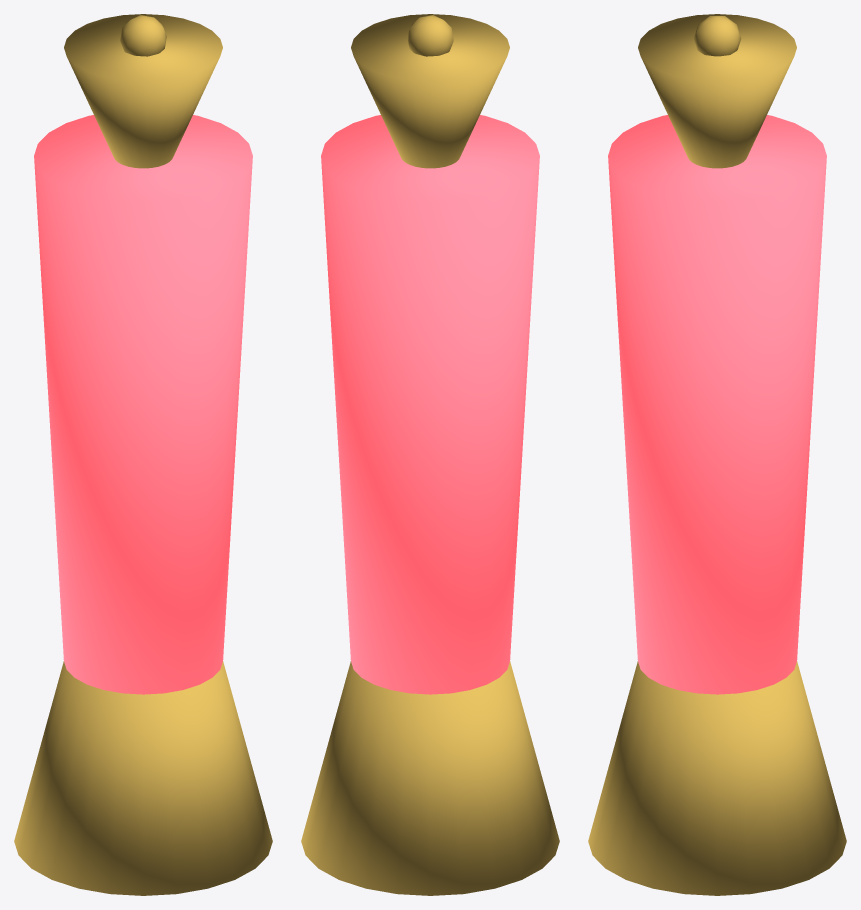
File: lava_lamp.glb
3 renders of one model, left to right at view 1: azimuth 30°, elevation 25°; view 2: azimuth 150°, elevation 25°; view 3: azimuth 270°, elevation 25°, orthographic.
Parts seen in each view (by area): view 1: glass, base, cap, tip; view 2: glass, base, cap, tip; view 3: glass, base, cap, tip.
Boxes of the visible parts, box(x1,y1,x2,y2) form: glass: box(34, 115, 252, 694); base: box(14, 661, 272, 895); cap: box(64, 14, 222, 168); tip: box(120, 15, 166, 56); glass: box(321, 115, 539, 694); base: box(301, 661, 559, 895); cap: box(351, 14, 509, 168); tip: box(407, 15, 453, 56); glass: box(608, 115, 826, 694); base: box(588, 661, 846, 895); cap: box(638, 14, 796, 168); tip: box(693, 16, 741, 56).
Size of the model in its own units: 0.13 by 0.457 by 0.13.
